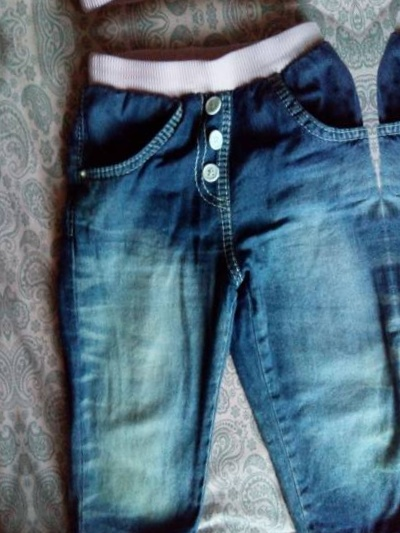Pants: (0, 7, 400, 533), (358, 0, 400, 522), (0, 0, 352, 34), (0, 62, 12, 533)
